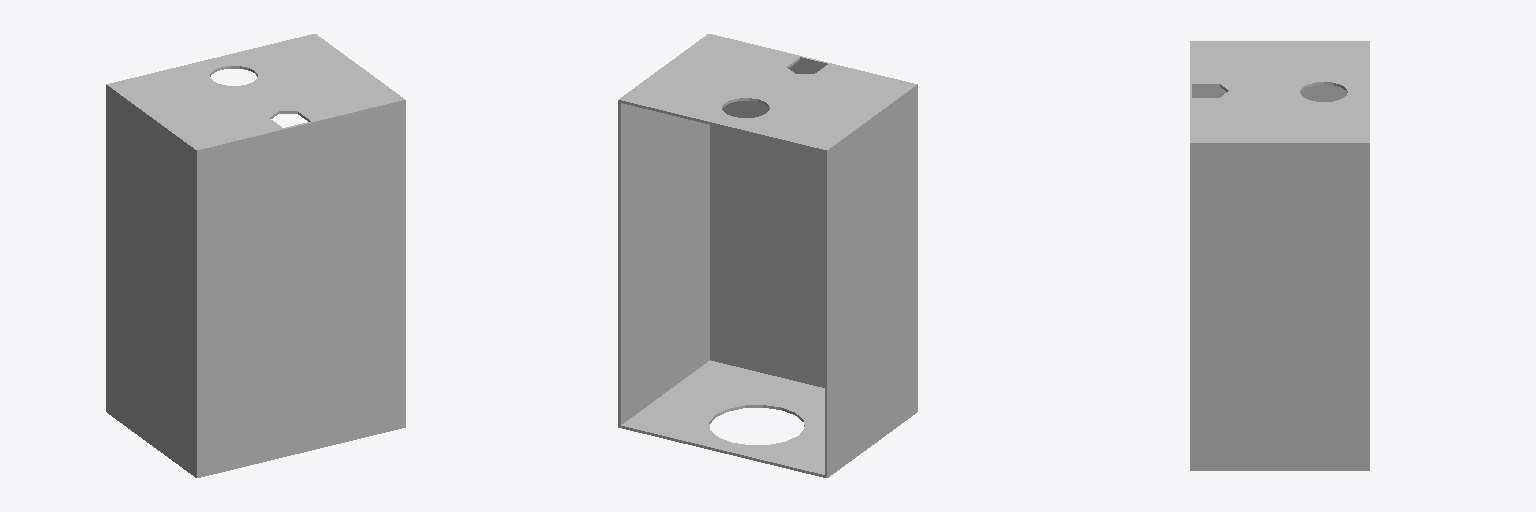
Rendered from ChurchWall.obj.
3 renders of one model, left to right at view 1: azimuth 30°, elevation 25°; view 2: azimuth 150°, elevation 25°; view 3: azimuth 270°, elevation 25°, orthographic.
Visible parts, largest first — view 1: Wall03 Castle_Mesh Church2; view 2: Wall03 Castle_Mesh Church2; view 3: Wall03 Castle_Mesh Church2.
Boxes of the visible parts, x1,y1,x2,y2 form: Wall03 Castle_Mesh Church2: [106, 34, 405, 477]; Wall03 Castle_Mesh Church2: [618, 34, 917, 477]; Wall03 Castle_Mesh Church2: [1190, 41, 1369, 470].
Bounding box in the file's own units: 75 × 112 × 56.25.